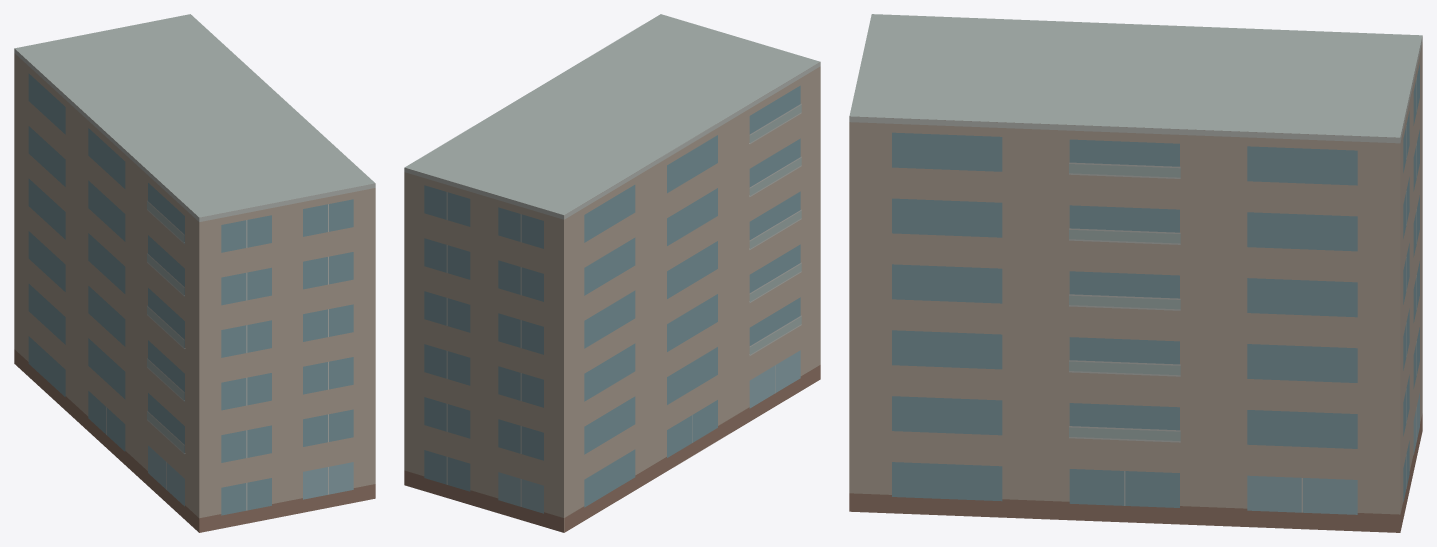
The model's file is survey-upis-32628698.glb.
3 renders of one model, left to right at view 1: azimuth 30°, elevation 25°; view 2: azimuth 150°, elevation 25°; view 3: azimuth 270°, elevation 25°, orthographic. The views are drawn at different scales.
Parts seen in each view (by area): view 1: survey-upis-32628698.tmp; view 2: survey-upis-32628698.tmp; view 3: survey-upis-32628698.tmp.
Boxes of the visible parts, x1,y1,x2,y2 form: survey-upis-32628698.tmp: (14,14,375,532); survey-upis-32628698.tmp: (404,14,820,532); survey-upis-32628698.tmp: (849,14,1422,532).
Size of the model in its own units: 11.35 by 16.9 by 22.22.
